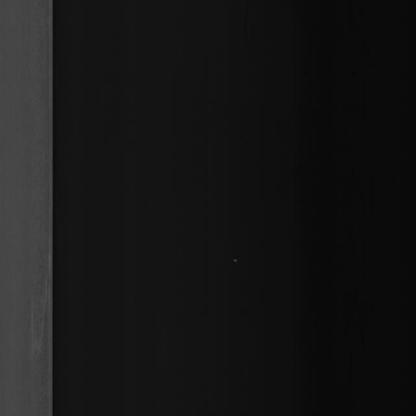silk_spot: (24, 228, 48, 368)
